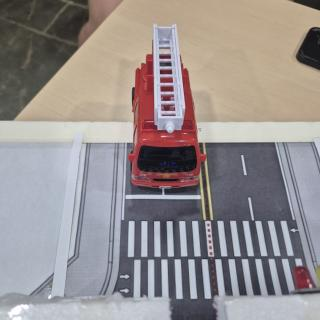Fire_truck: (128, 25, 206, 189)
